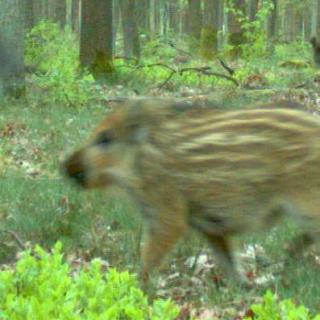Pig: (60, 92, 320, 269)
